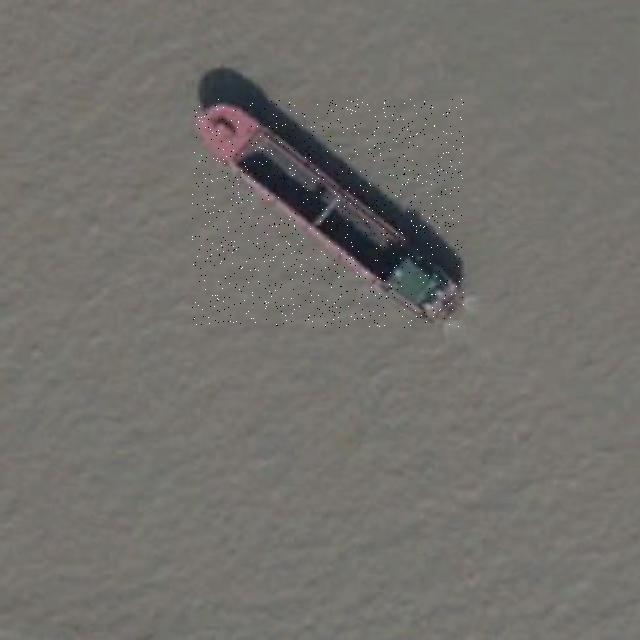boat: (192, 99, 464, 328)
